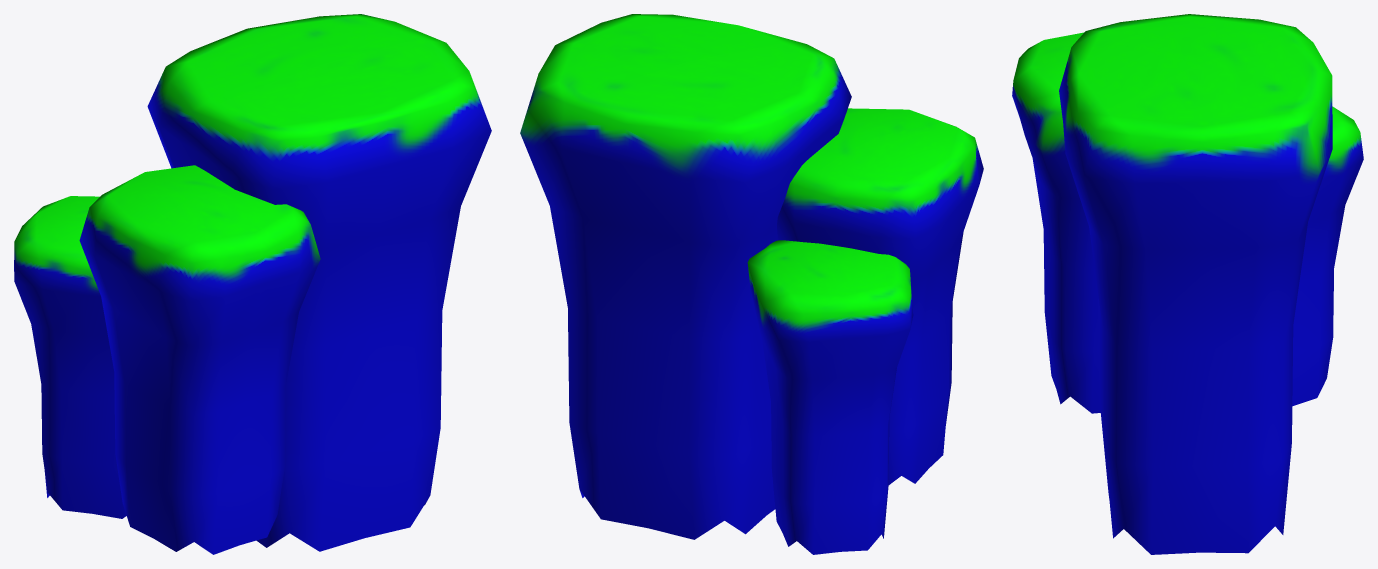
The model's file is PlatformIslandsShape.dae.
The picture shows the model from 3 angles, left to right: view 1: azimuth 30°, elevation 25°; view 2: azimuth 150°, elevation 25°; view 3: azimuth 270°, elevation 25°; orthographic projection. The views are drawn at different scales.
Parts seen in each view (by area): view 1: PlatformIslands; view 2: PlatformIslands; view 3: PlatformIslands.
Boxes of the visible parts, x1,y1,x2,y2 form: PlatformIslands: (14,14,491,554); PlatformIslands: (520,14,983,554); PlatformIslands: (1012,14,1363,554).
Size of the model in its own units: 69.87 by 74.27 by 53.13.
